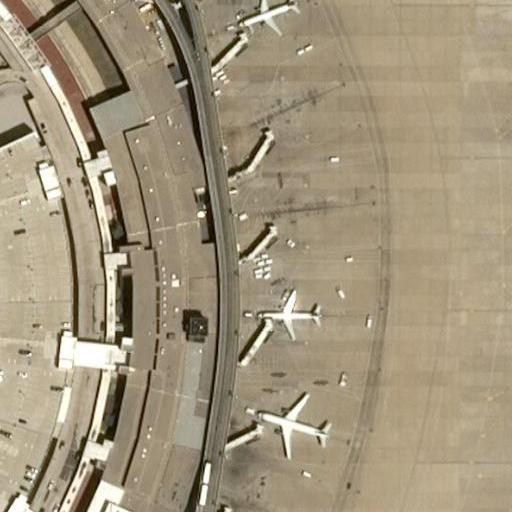Aircraft: (252, 390, 334, 463), (260, 290, 324, 338), (232, 0, 304, 39)
